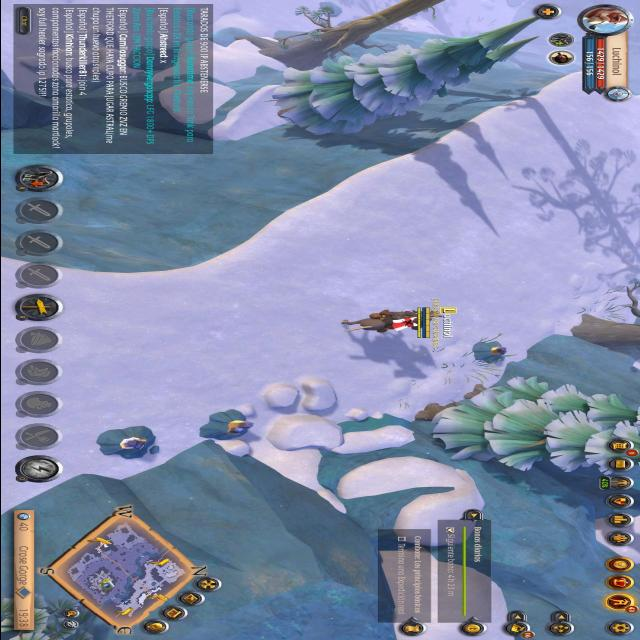piedra_cobre: (90, 422, 170, 465), (192, 407, 260, 446), (465, 336, 518, 368)
